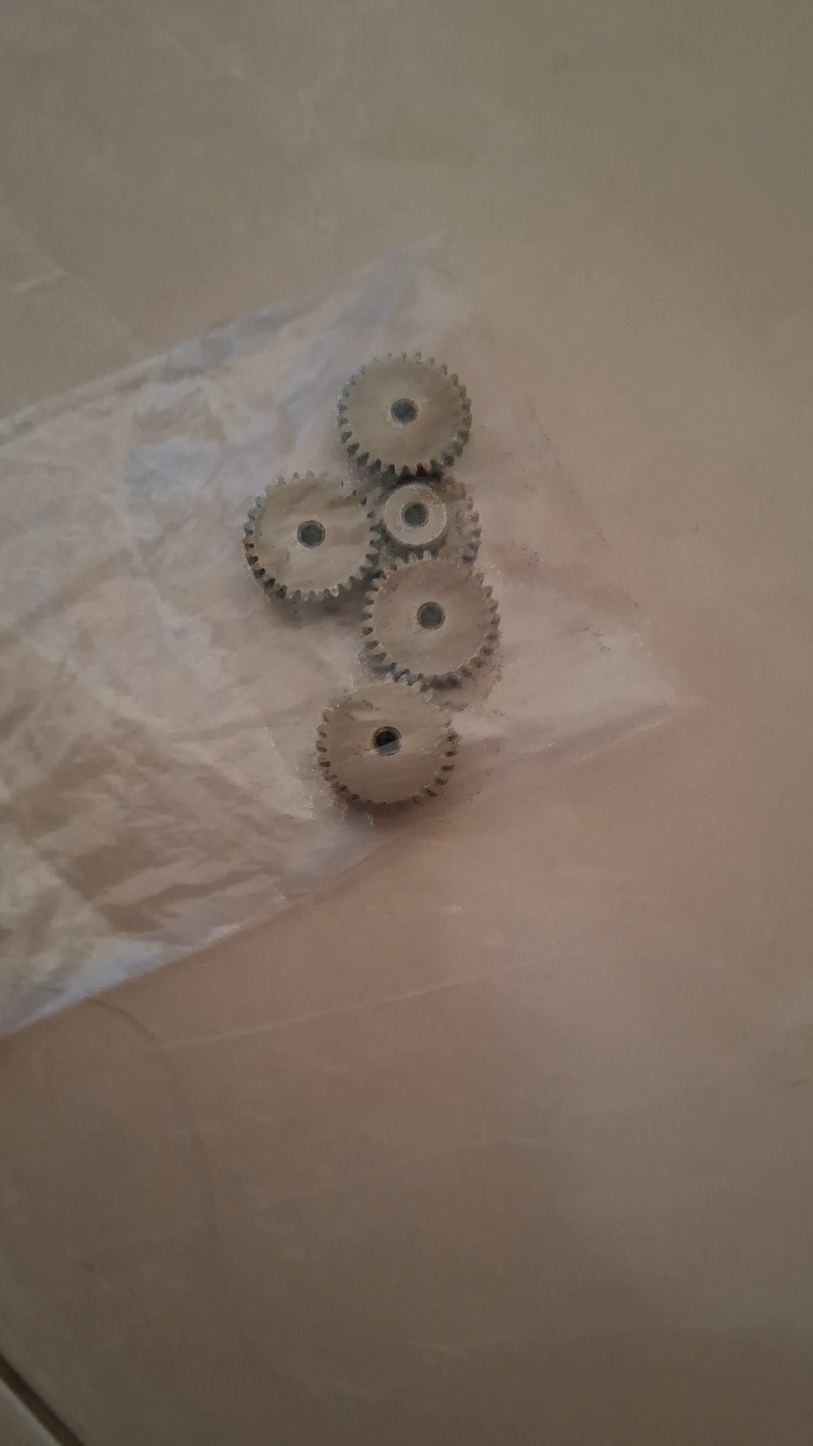spur gear: (337, 353, 470, 484), (317, 681, 457, 805), (244, 473, 379, 601), (362, 558, 498, 685), (379, 476, 480, 563)
